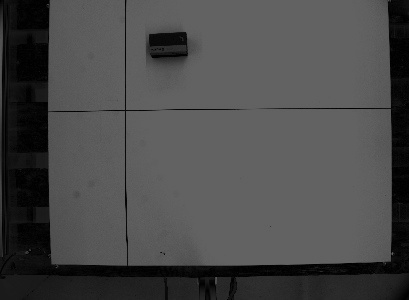b3: (146, 30, 190, 59)
